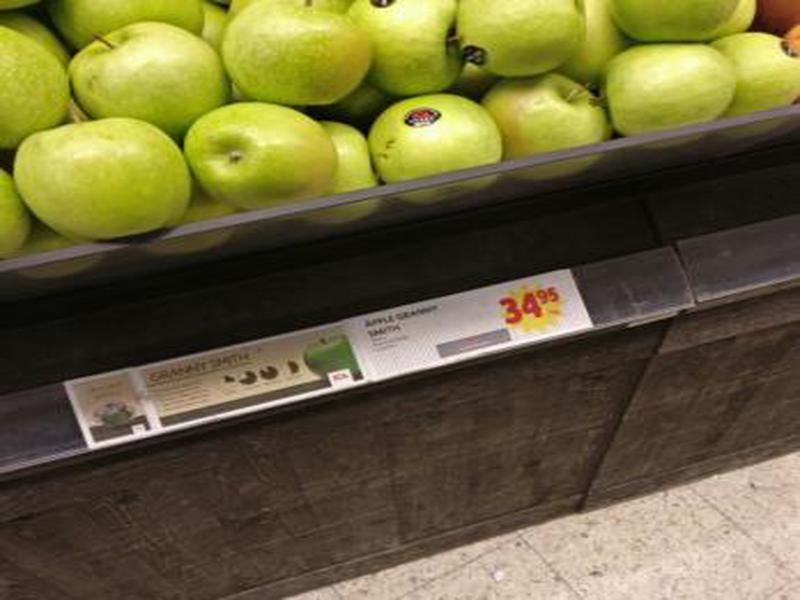green apple: (12, 115, 194, 241), (69, 21, 230, 138), (183, 101, 341, 217), (222, 2, 376, 107), (370, 93, 504, 205), (600, 40, 736, 149), (481, 73, 612, 184), (345, 1, 466, 97), (700, 30, 798, 139), (454, 1, 586, 79), (291, 122, 379, 229), (1, 15, 72, 147), (53, 1, 208, 49), (142, 197, 240, 259), (605, 1, 744, 43), (561, 1, 625, 85), (1, 167, 31, 258), (706, 1, 757, 36)
